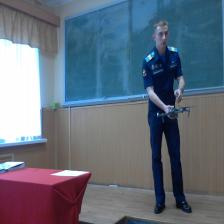drone: (152, 96, 194, 124)
